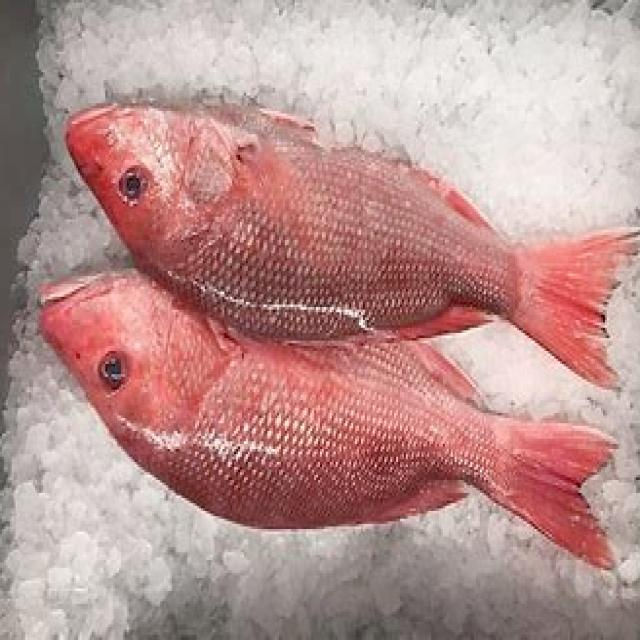Red Snapper: (36, 269, 620, 574), (66, 102, 640, 391)
